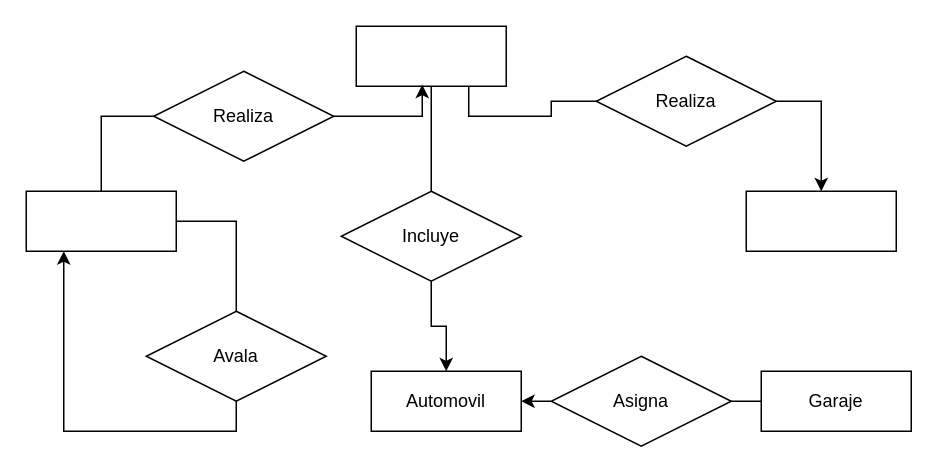
Some shapes in this 938 by 473 pixel diagram are drawn without their labels. The shapes that lost their labels are listed below. From the top down, each one's box as (x1, y1, x2, y2) in pixels, then its label:
(355, 25, 506, 86): Reserva
(25, 190, 176, 251): Cliente
(745, 190, 896, 251): Agencia
